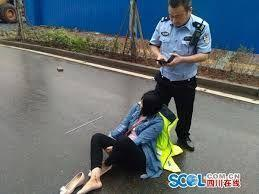Fall-Detected: (53, 80, 172, 194)
